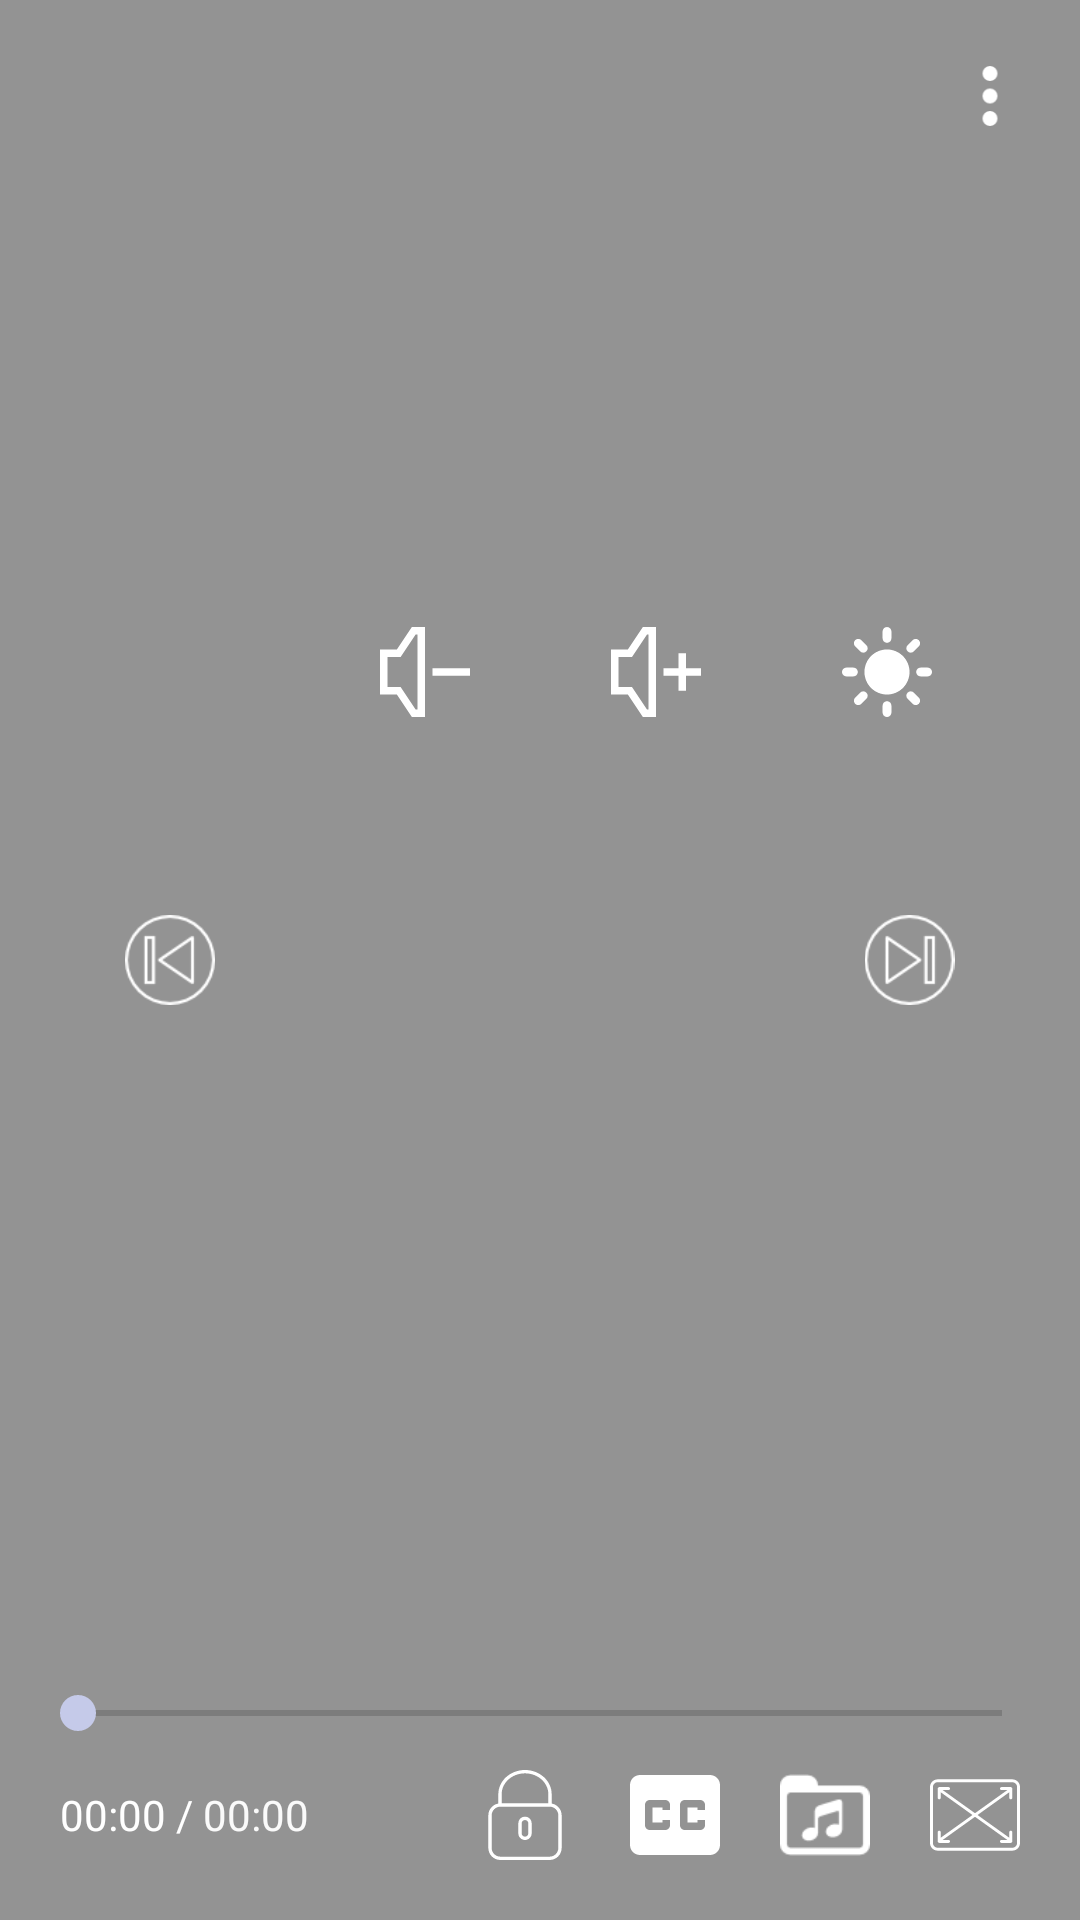

Locate icon controls on the screen. Image size 1080px×1920px, boxes as (x1, y1, x2, y2).
brightness high: (842, 627, 932, 717)
control lock: (488, 1770, 562, 1860)
full screen: (930, 1779, 1020, 1851)
music player: (780, 1775, 870, 1855)
next: (865, 915, 955, 1005)
previous: (125, 915, 215, 1005)
video options: (982, 66, 998, 126)
volume down: (380, 627, 470, 717)
volume up: (611, 627, 701, 717)
